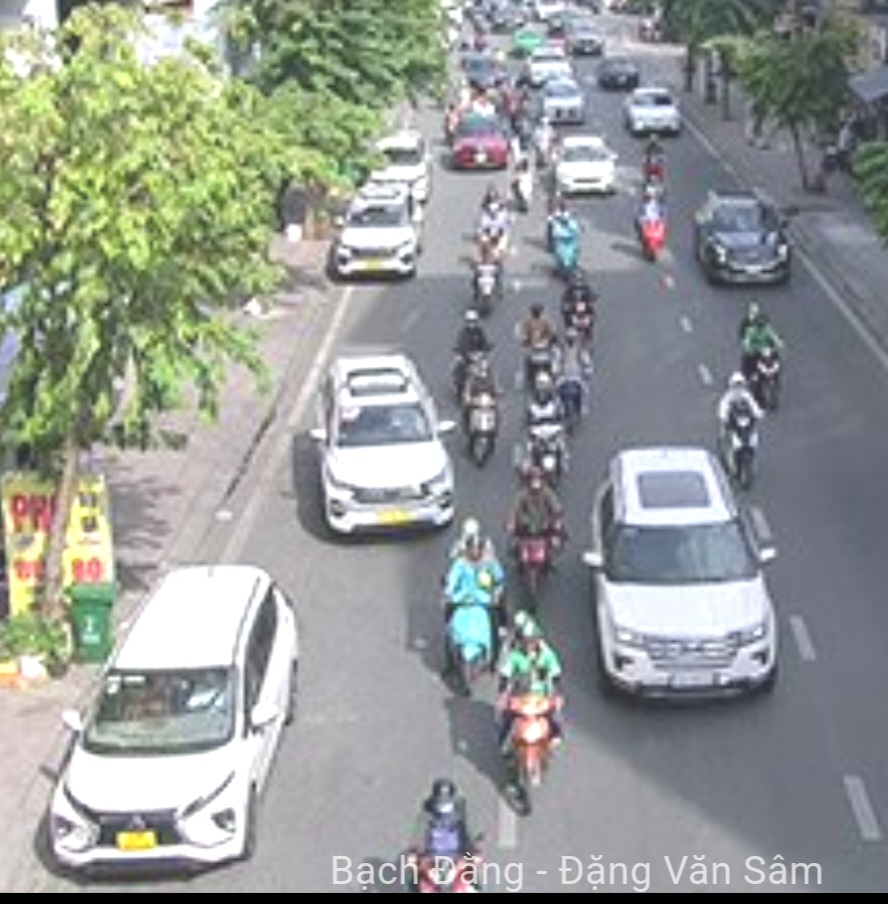car: (50, 564, 298, 872), (581, 447, 790, 706), (315, 355, 457, 532), (688, 189, 790, 287), (333, 187, 423, 286), (551, 135, 614, 193), (623, 91, 684, 135), (544, 80, 585, 124), (526, 49, 576, 82), (598, 55, 641, 88)
